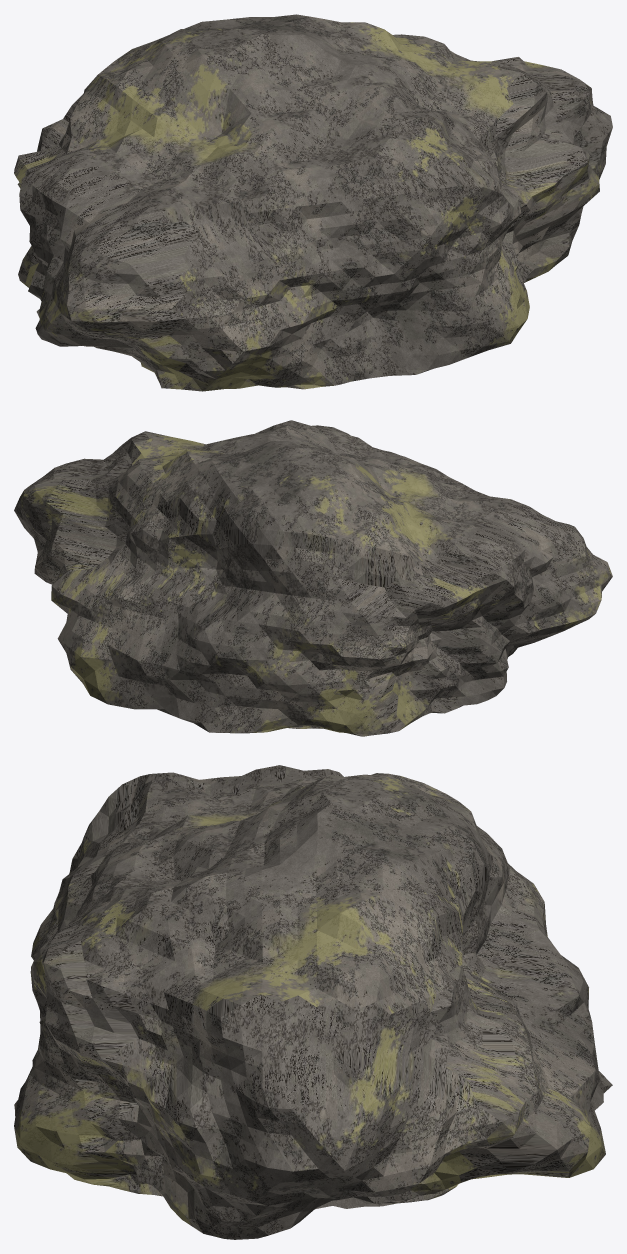
File: rock_a.glb
3 views of the same model, one above another, from view 1: azimuth 30°, elevation 25°; view 2: azimuth 150°, elevation 25°; view 3: azimuth 270°, elevation 25° (orthographic). The views are drawn at different scales.
Visible parts, largest first — view 1: rock_a; view 2: rock_a; view 3: rock_a.
Part boxes in pixels (x1=…): rock_a: x1=14, y1=14, x2=612, y2=391; rock_a: x1=14, y1=420, x2=612, y2=736; rock_a: x1=14, y1=765, x2=612, y2=1239.
Bounding box in the file's own units: 3.65 × 1.49 × 2.61.
1 material, 1 textured.
